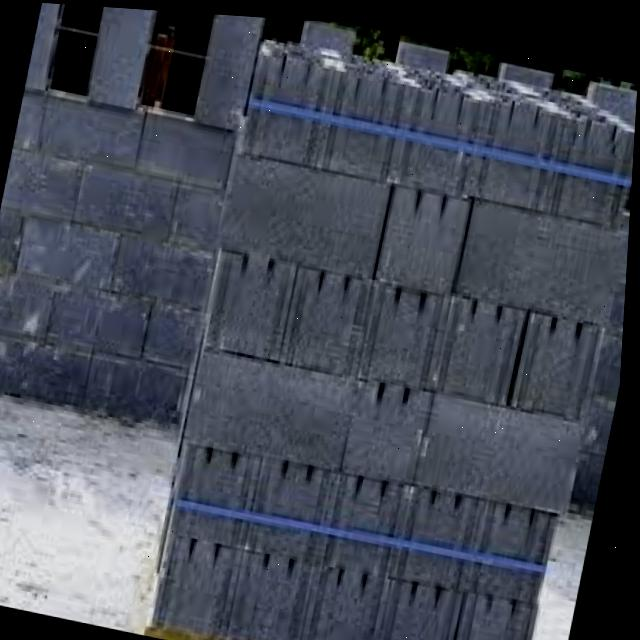bricks: (153, 40, 637, 640)
